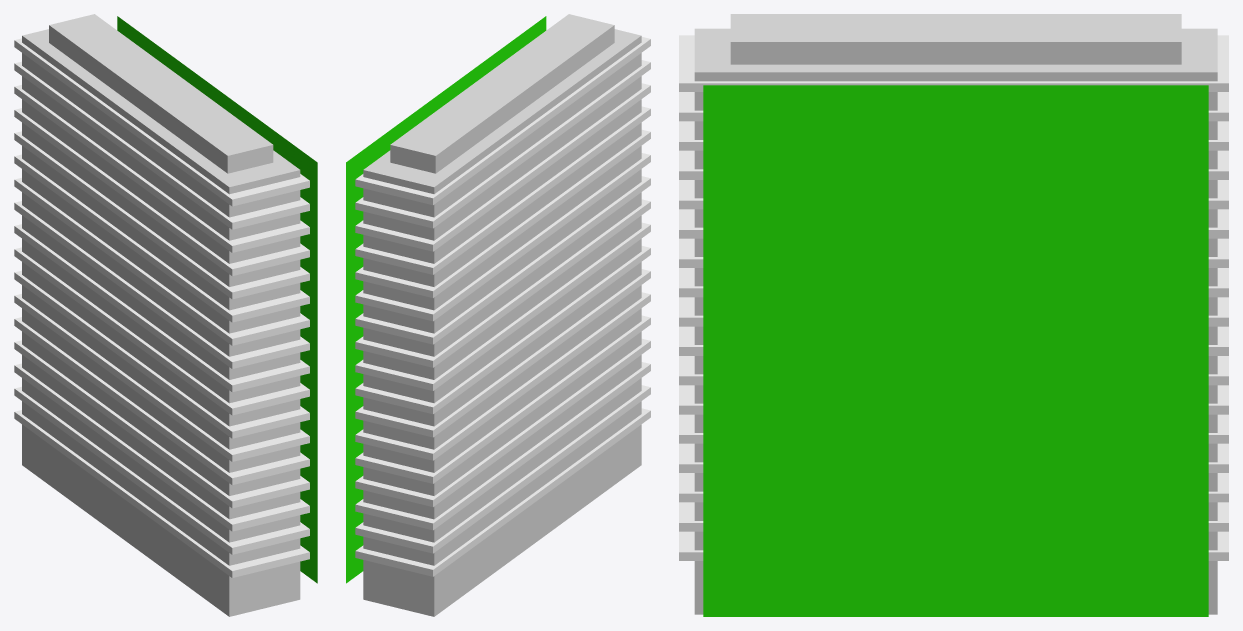
Rendered from build_behind.gltf.
3 renders of one model, left to right at view 1: azimuth 30°, elevation 25°; view 2: azimuth 150°, elevation 25°; view 3: azimuth 270°, elevation 25°, orthographic. The views are drawn at different scales.
Visible parts, largest first — view 1: Cube, Cube.4, clickgreen, Cube 1, Cube 10, Cube 0, Cube 2, Cube 9, Cube 11, Cube 12, Cube 6, Cube 15 (+8 smaller); view 2: Cube, Cube.4, clickgreen, Cube 14, Cube 2, Cube 6, Cube 10, Cube 0, Cube 1, Cube 5, Cube 8, Cube 9 (+8 smaller); view 3: clickgreen, Cube.4, Cube, Cube 16, Cube 5, Cube 6, Cube 8, Cube 9, Cube 11, Cube 12, Cube 2, Cube 15 (+8 smaller).
Boxes of the visible parts, left/top/right/bottom form: Cube: left=22, top=29, right=300, bottom=616; Cube.4: left=49, top=14, right=273, bottom=173; clickgreen: left=117, top=16, right=317, bottom=583; Cube 1: left=14, top=386, right=309, bottom=554; Cube 10: left=14, top=177, right=309, bottom=345; Cube 0: left=14, top=410, right=309, bottom=577; Cube 2: left=14, top=363, right=309, bottom=531; Cube 9: left=14, top=201, right=309, bottom=368; Cube 11: left=14, top=154, right=309, bottom=322; Cube 12: left=14, top=131, right=309, bottom=299; Cube 6: left=14, top=270, right=309, bottom=438; Cube 15: left=14, top=61, right=309, bottom=229; Cube: left=363, top=29, right=641, bottom=616; Cube.4: left=390, top=14, right=614, bottom=173; clickgreen: left=346, top=16, right=546, bottom=583; Cube 14: left=355, top=83, right=650, bottom=251; Cube 2: left=355, top=362, right=650, bottom=530; Cube 6: left=355, top=269, right=650, bottom=437; Cube 10: left=355, top=176, right=650, bottom=344; Cube 0: left=355, top=408, right=650, bottom=576; Cube 1: left=355, top=385, right=650, bottom=553; Cube 5: left=355, top=292, right=650, bottom=460; Cube 8: left=355, top=222, right=650, bottom=390; Cube 9: left=355, top=199, right=650, bottom=367; clickgreen: left=703, top=85, right=1208, bottom=616; Cube.4: left=730, top=14, right=1181, bottom=64; Cube: left=694, top=28, right=1217, bottom=614; Cube 16: left=679, top=35, right=1228, bottom=91; Cube 5: left=679, top=385, right=1228, bottom=414; Cube 6: left=679, top=356, right=1228, bottom=385; Cube 8: left=679, top=297, right=1228, bottom=326; Cube 9: left=679, top=268, right=1228, bottom=297; Cube 11: left=679, top=209, right=1228, bottom=238; Cube 12: left=679, top=180, right=1228, bottom=209; Cube 2: left=679, top=473, right=1228, bottom=502; Cube 15: left=679, top=92, right=1228, bottom=121.
Size of the model in its own units: 42.84 by 193 by 170.
